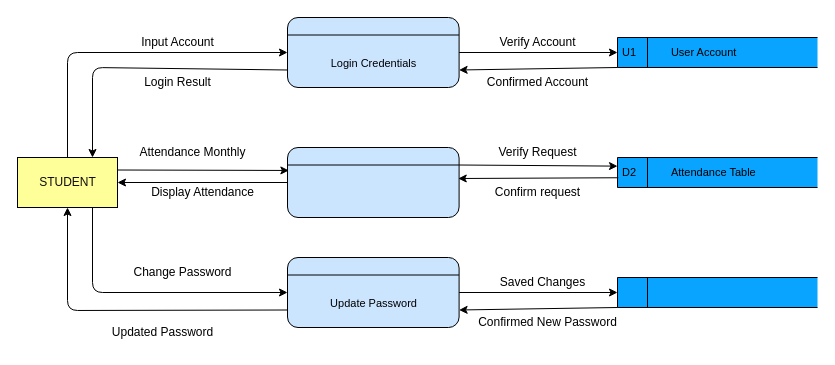
The diagram is 835 pixels wide and 365 high, and some of its shapes have lost their labels. Each missing label, with the centre of its shape:
U1 User Acount: (717,292)
View Attedance: (372,182)
